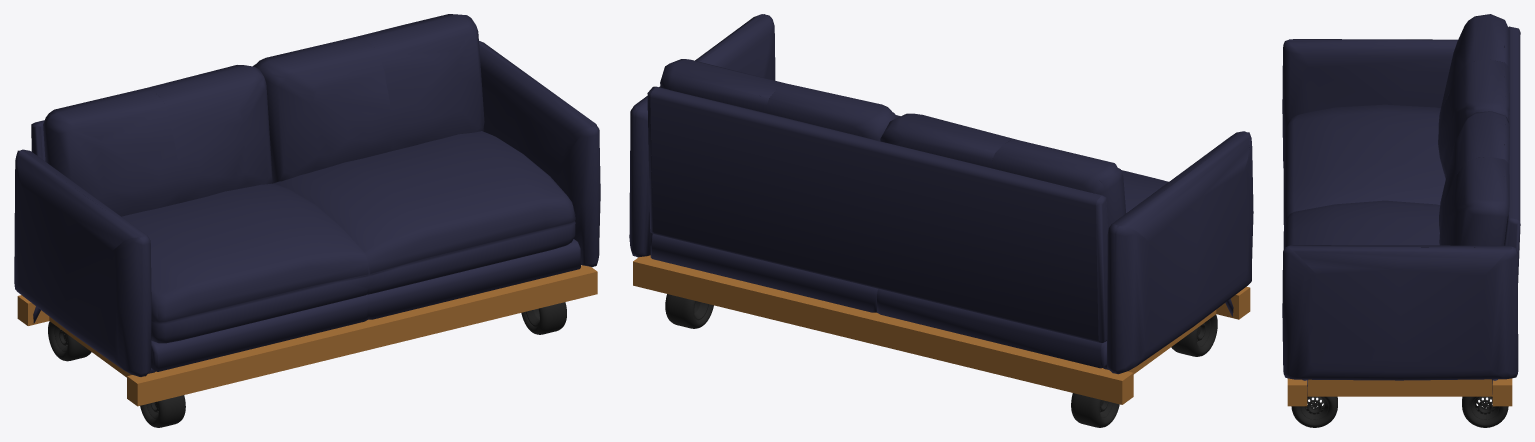
Rendered from couch.fbx.
3 renders of one model, left to right at view 1: azimuth 30°, elevation 25°; view 2: azimuth 150°, elevation 25°; view 3: azimuth 270°, elevation 25°, orthographic. The views are drawn at different scales.
Visible parts, largest first — view 1: Cube, Cube.001, Wheel; view 2: Cube, Cube.001, Wheel; view 3: Cube, Cube.003, Wheel, Cube.001.
Boxes of the visible parts, bbox=[...] form: Cube: bbox=[14, 14, 600, 376]; Cube.001: bbox=[17, 265, 597, 406]; Wheel: bbox=[48, 302, 566, 427]; Cube: bbox=[629, 14, 1253, 374]; Cube.001: bbox=[633, 255, 1250, 404]; Wheel: bbox=[665, 294, 1217, 427]; Cube: bbox=[1282, 14, 1520, 396]; Cube.003: bbox=[1307, 379, 1492, 396]; Wheel: bbox=[1291, 396, 1508, 427]; Cube.001: bbox=[1287, 378, 1512, 406].
Size of the model in its own units: 202 by 98.42 by 92.47.
